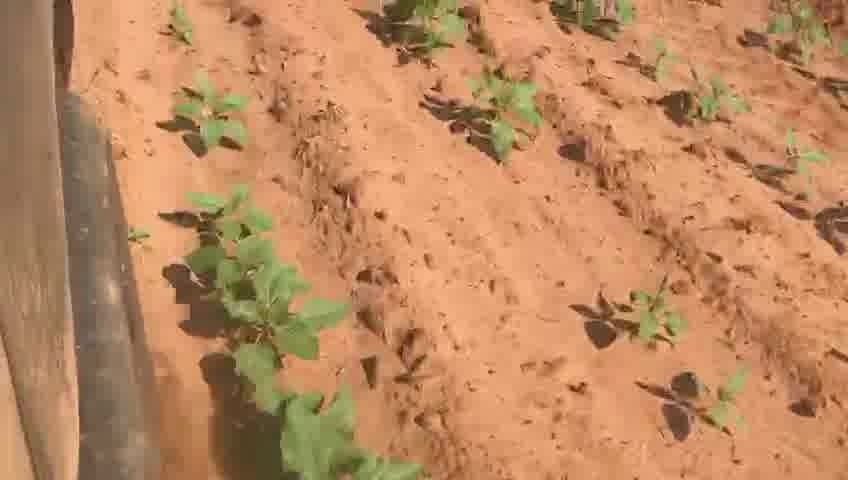sunflower: (226, 395, 412, 479), (215, 278, 349, 393), (177, 190, 281, 295), (463, 68, 546, 161), (169, 70, 260, 152), (384, 2, 466, 65), (626, 280, 683, 347), (703, 369, 749, 432), (780, 128, 833, 180), (697, 75, 751, 123), (645, 34, 688, 81)
